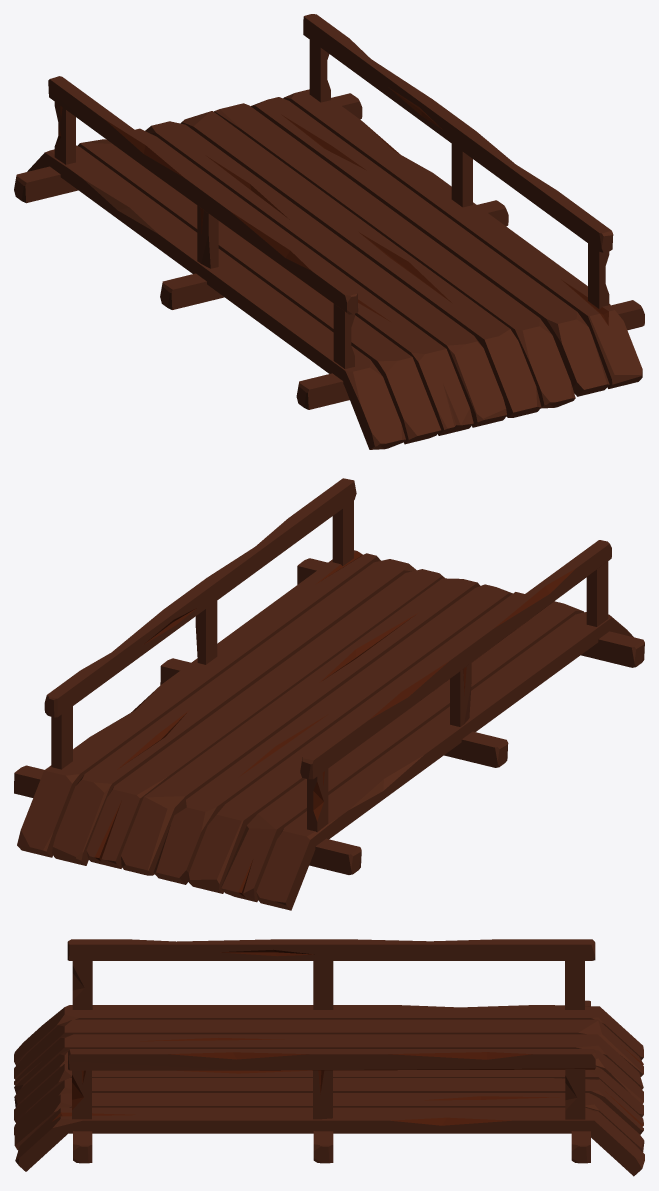
File: Bridge_2.fbx
3 views of the same model, one above another, from view 1: azimuth 30°, elevation 25°; view 2: azimuth 150°, elevation 25°; view 3: azimuth 270°, elevation 25° (orthographic). The views are drawn at different scales.
Parts seen in each view (by area): view 1: Bridge_2; view 2: Bridge_2; view 3: Bridge_2.
Part boxes in pixels (<box>): Bridge_2: <box>14,14,644,449</box>; Bridge_2: <box>14,478,644,910</box>; Bridge_2: <box>14,939,644,1176</box>.
Size of the model in its own units: 98.34 by 38.47 by 181.
